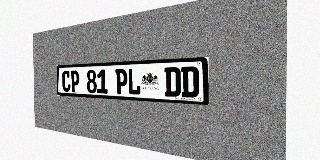1: (97, 69, 108, 94)
8: (87, 70, 97, 93)
C: (62, 71, 70, 92)
D: (181, 66, 199, 98), (164, 67, 181, 97)
L: (128, 68, 141, 95)
P: (115, 69, 128, 94), (70, 70, 79, 92)
